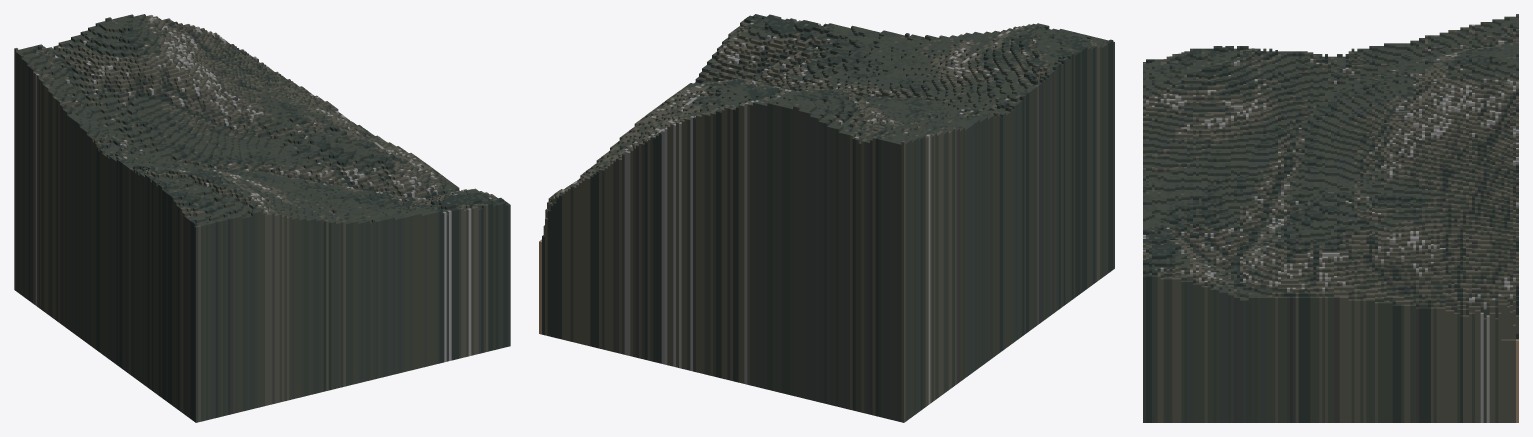
Rendered from FileToVox-12.obj.
The picture shows the model from 3 angles, left to right: view 1: azimuth 30°, elevation 25°; view 2: azimuth 150°, elevation 25°; view 3: azimuth 270°, elevation 25°; orthographic projection. The views are drawn at different scales.
Size of the model in its own units: 12.8 by 9.7 by 12.8.
1 material, 1 textured.
